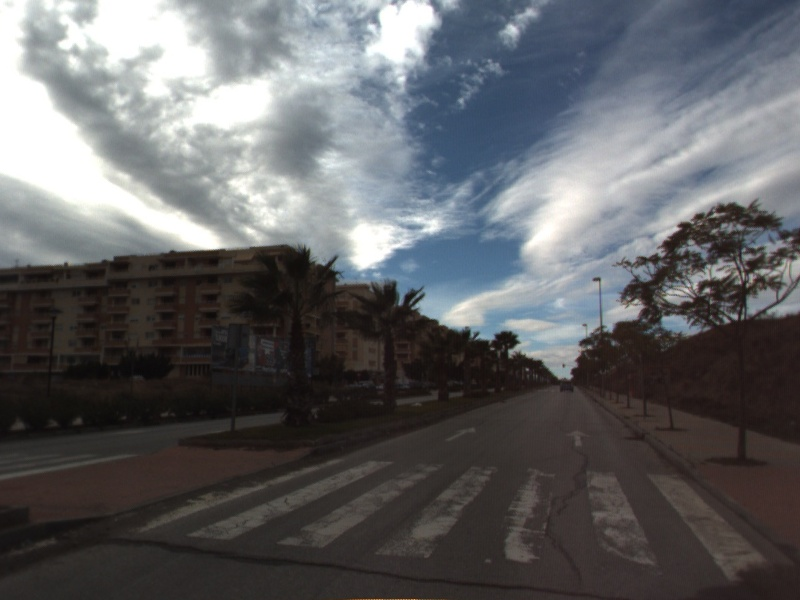STRAIGHT: (443, 425, 478, 443), (564, 428, 593, 448)
